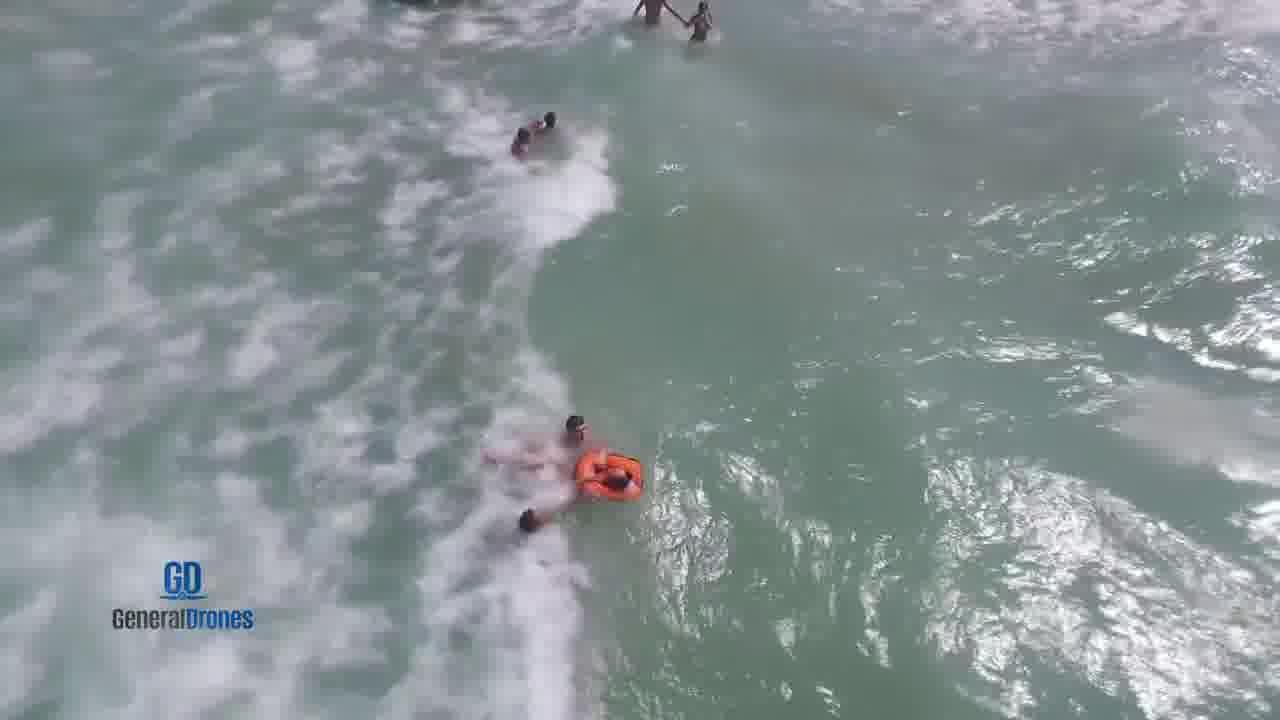swimmer: (681, 4, 748, 51), (497, 503, 564, 548), (594, 458, 662, 499), (535, 92, 575, 152), (558, 400, 614, 442), (630, 0, 669, 30), (504, 120, 526, 160)
